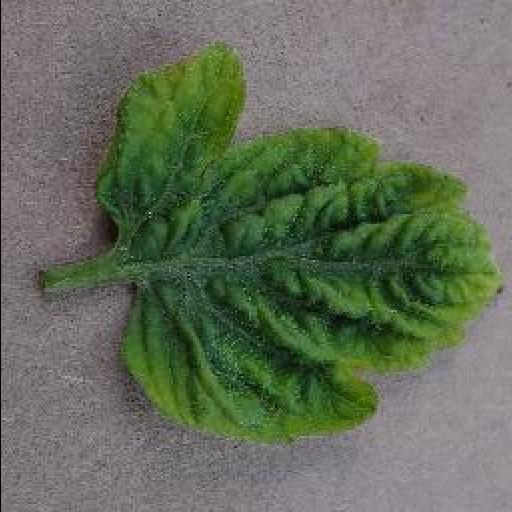disease_tomato: (94, 42, 504, 444)
